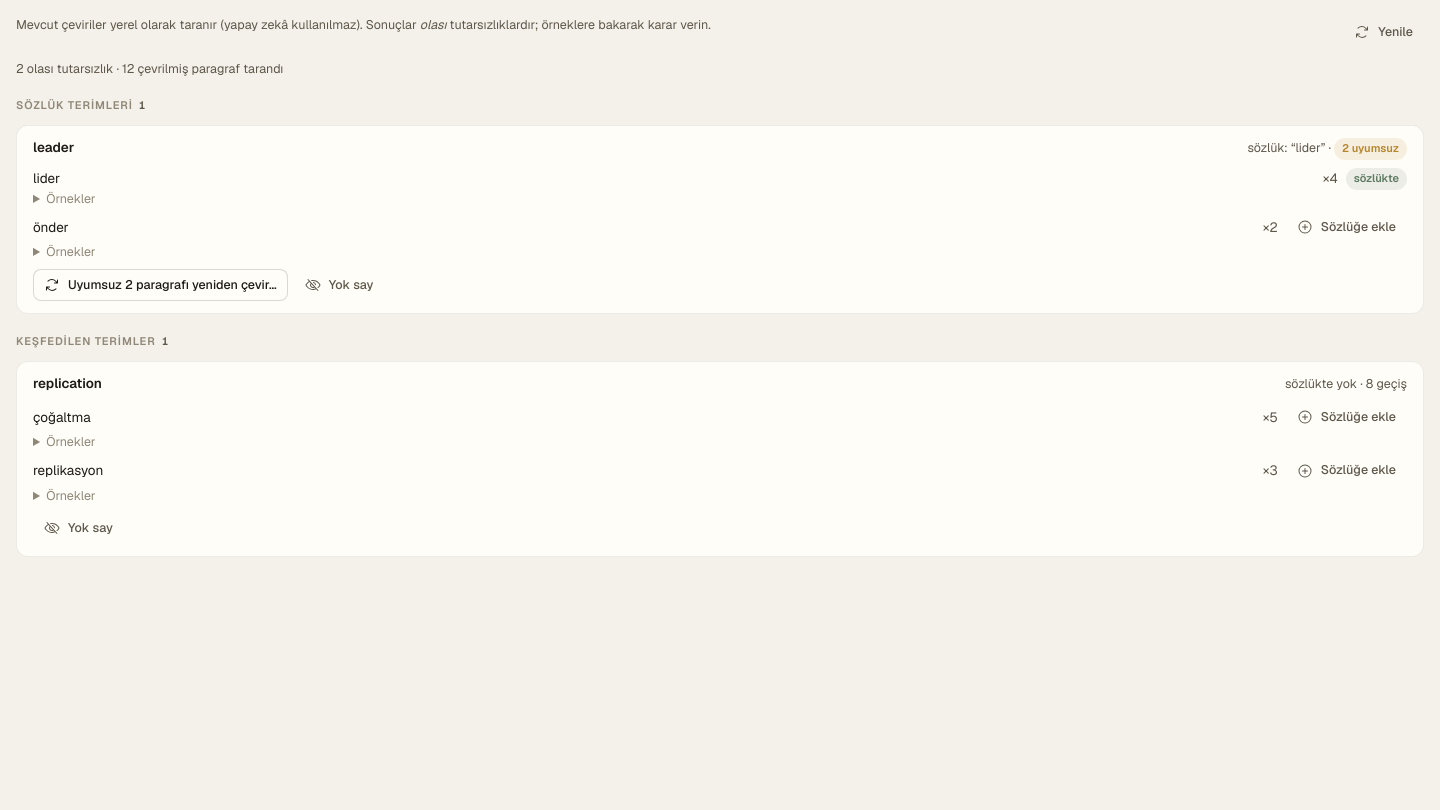
Test: ConsistencyPanel › 'Yok say' hides the term and it can be restored
Click the button "Yok say" below "önder". click: (339, 285)
box: x1=294 y1=269 x2=384 y2=301
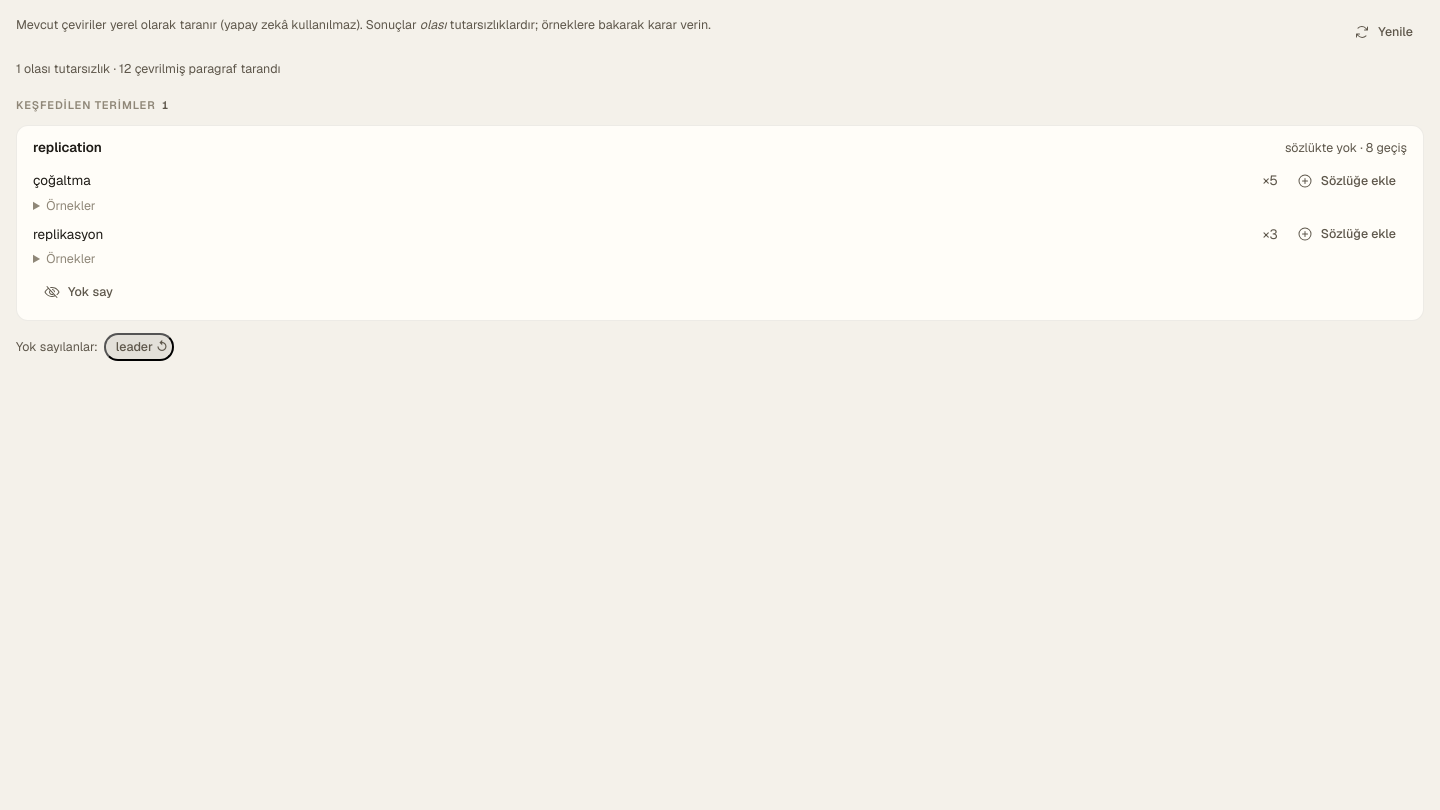
Click the button "leader ↺". click: (139, 347)
box: x1=104 y1=333 x2=174 y2=361
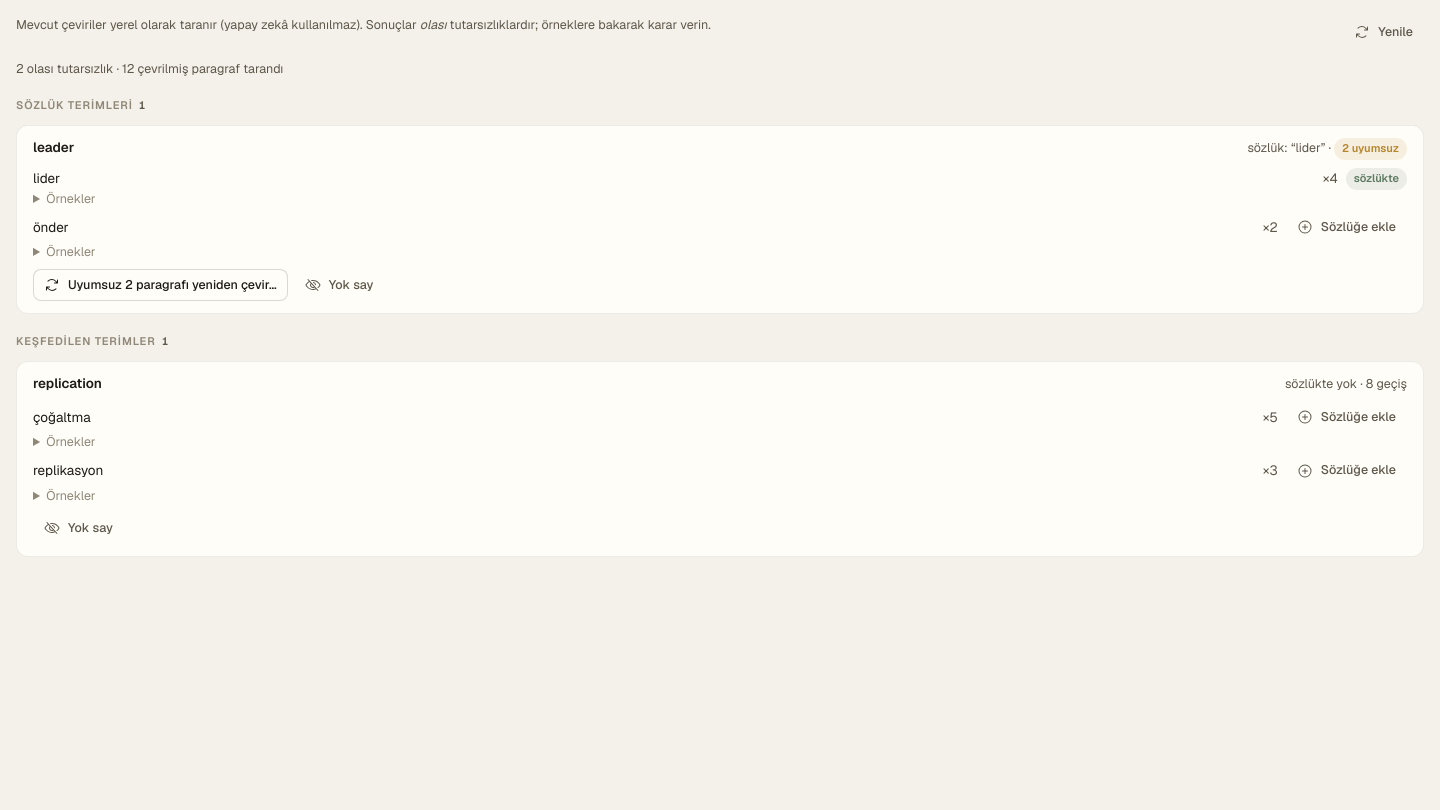
Check: the element "leader" is shown, box x1=16 y1=125 x2=1424 y2=314
